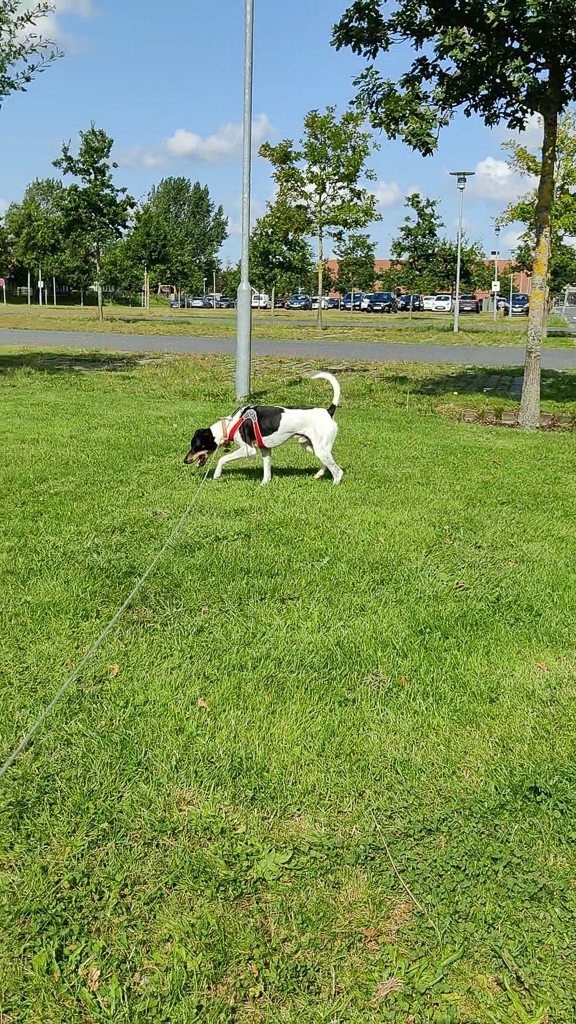Dog: (177, 368, 350, 495)
